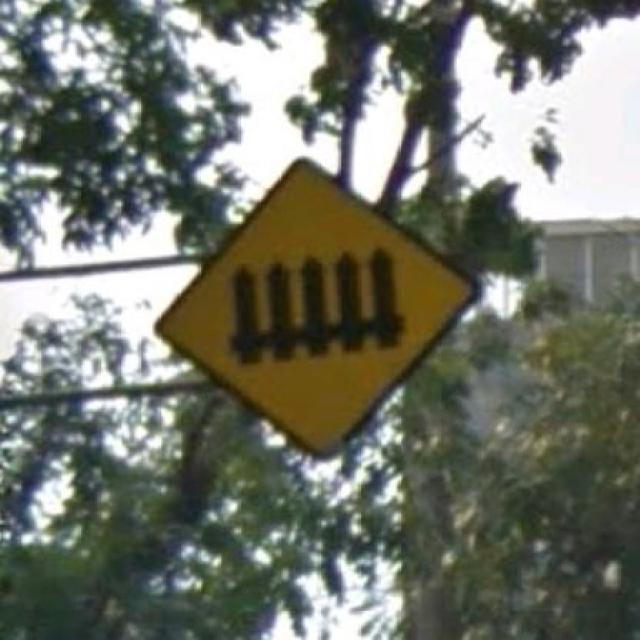traffic sign: (170, 173, 456, 440)
